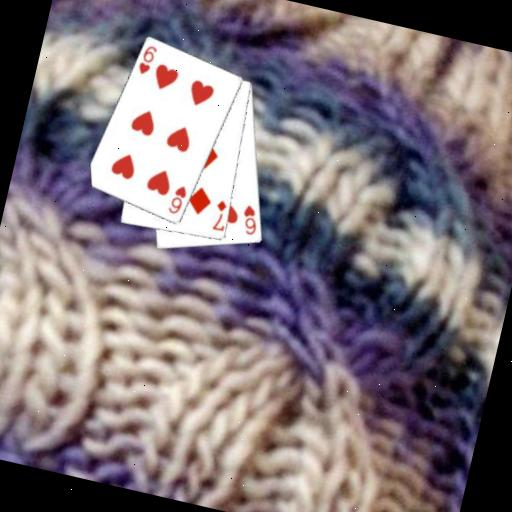6H: (236, 201, 264, 238), (164, 181, 190, 218), (134, 41, 160, 78)
7D: (209, 196, 231, 234)
